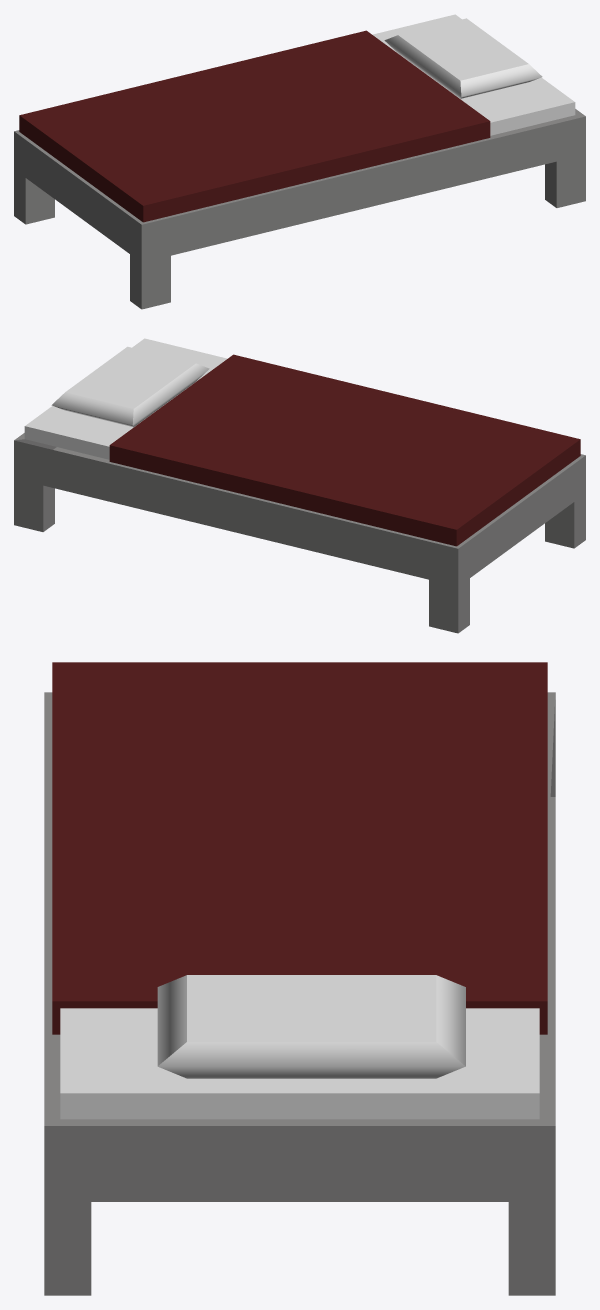
The model's file is Hospital Bed.fbx.
3 views of the same model, one above another, from view 1: azimuth 30°, elevation 25°; view 2: azimuth 150°, elevation 25°; view 3: azimuth 270°, elevation 25° (orthographic). The views are drawn at different scales.
Parts seen in each view (by area): view 1: pCube1, pCube2; view 2: pCube1, pCube2; view 3: pCube1, pCube2.
Boxes of the visible parts, x1=… form: pCube1: x1=14, y1=14, x2=585, y2=309; pCube2: x1=384, y1=18, x2=542, y2=98; pCube1: x1=14, y1=338, x2=585, y2=633; pCube2: x1=51, y1=346, x2=209, y2=427; pCube1: x1=44, y1=662, x2=555, y2=1295; pCube2: x1=157, y1=975, x2=465, y2=1078.
Bounding box in the file's own units: 6.48 × 1.62 × 3.23.
